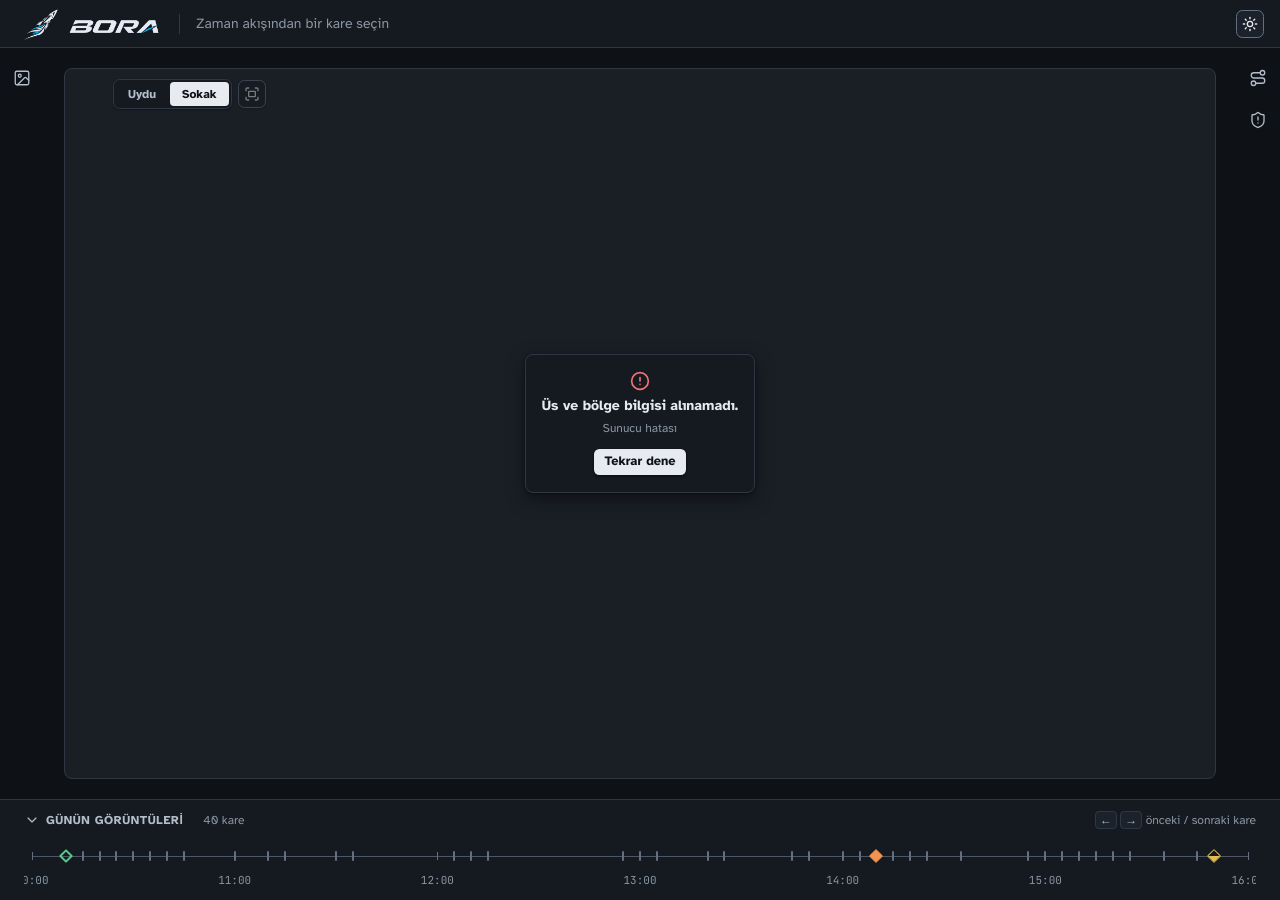
Test case: Açılış haritası: Üs, halkalar ve yaklaşık bölge alanları › üs ve bölge bilgisi alınamazsa hata ve Tekrar dene gösterir
Expected: the message shows "Üs ve bölge bilgisi alınamadı.", [542, 397, 738, 414]
Click the button "Tekrar dene": click(640, 462) [593, 448, 687, 476]
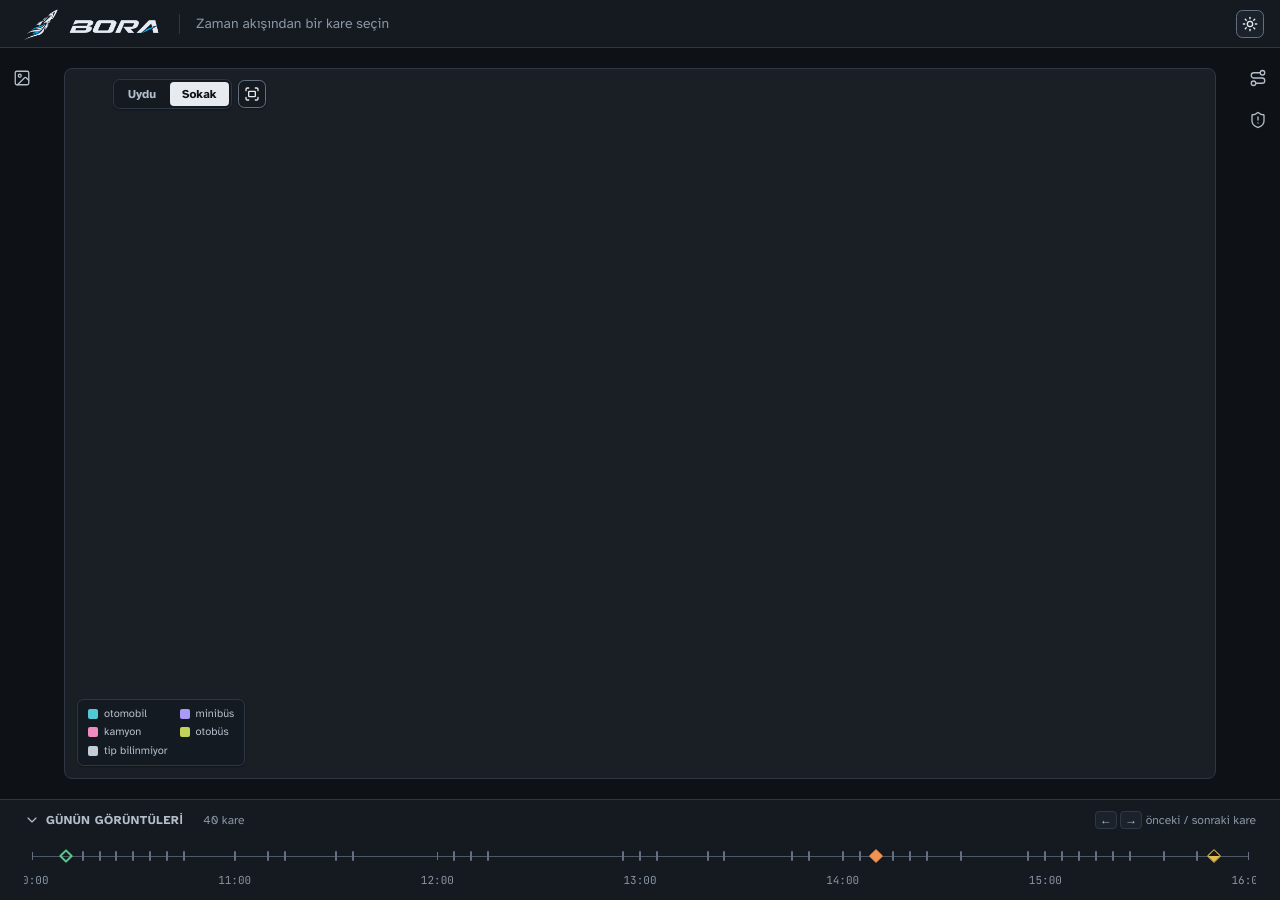
Expected: the message "Üs ve bölge bilgisi alınamadı. Sunucu hatası Tekrar dene" is gone
